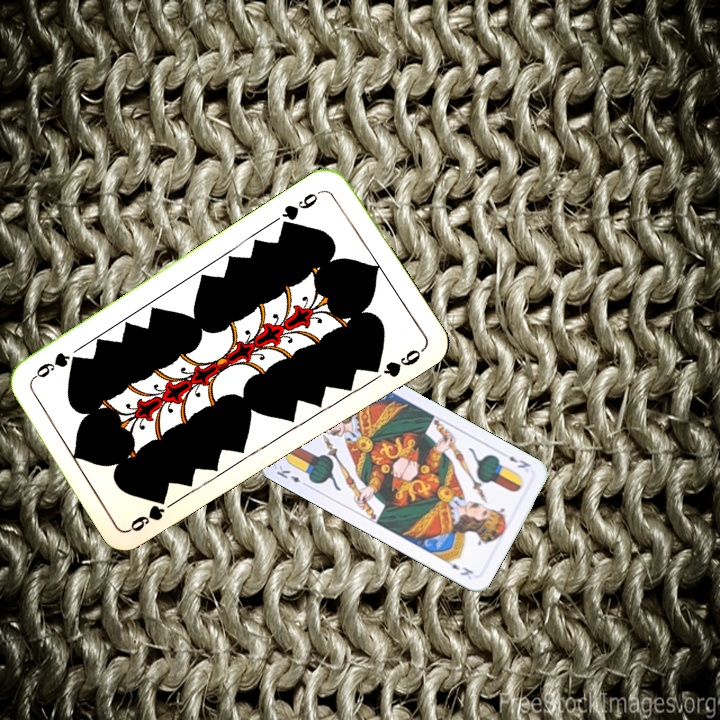EK: (272, 462, 311, 489), (505, 452, 533, 471)
G9: (277, 186, 325, 231), (126, 496, 180, 535)
